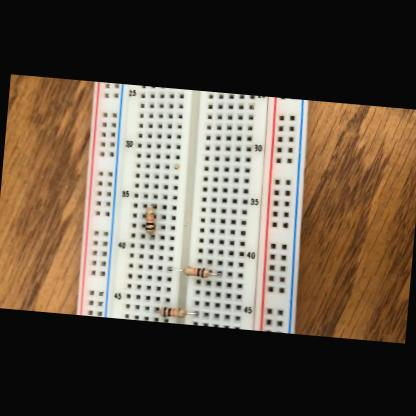breadboard: (73, 81, 315, 333)
resistor: (182, 264, 210, 278), (159, 305, 187, 318), (144, 206, 156, 234)
wire: (211, 270, 222, 276), (167, 266, 182, 270), (187, 310, 199, 314), (150, 203, 157, 207), (149, 233, 154, 238), (156, 306, 160, 312)
